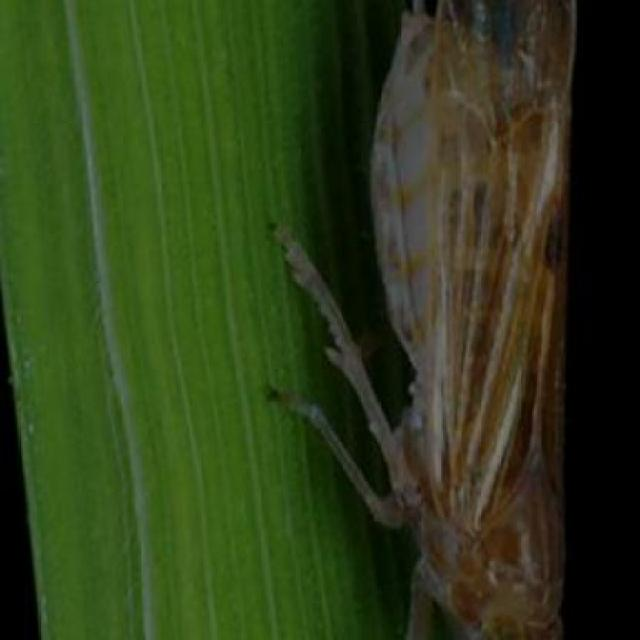brown-planthopper: (370, 0, 578, 640)
